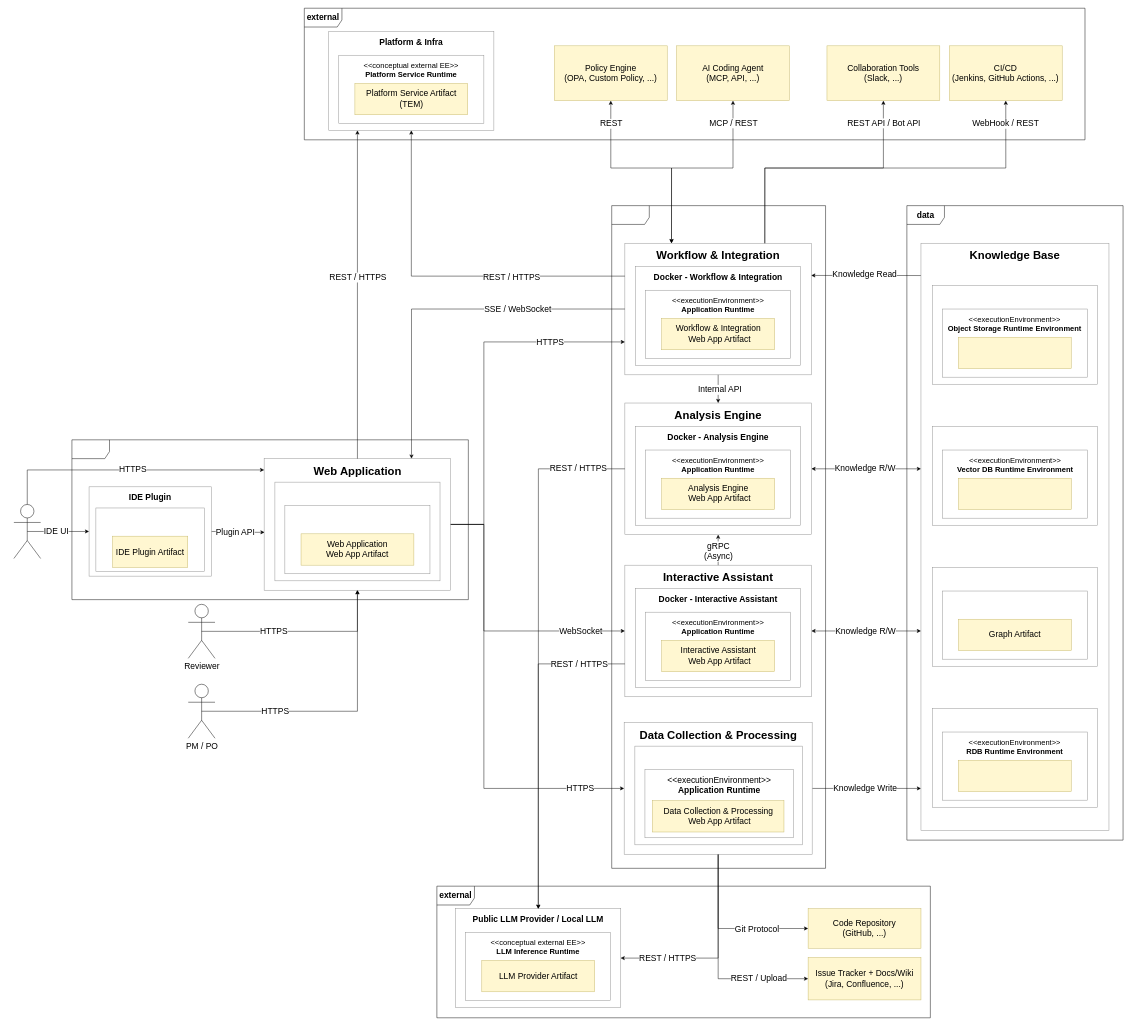
Some shapes in this 1131 by 1026 pixel diagram are drawn without their labels. Each missing label, with the box of its shape:
<<executionEnvironment>> Graph DB Runtime Environment: (942, 591, 1087, 659)
<<executionEnvironment>> IDE Host Runtime: (95, 508, 204, 571)
<<executionEnvironment>> Web Server Runtime: (284, 505, 430, 574)
Developer: (13, 504, 41, 559)
Docker - Data Collection & Processing: (634, 746, 803, 845)
Docker - KB Graph Storage: (932, 567, 1097, 666)
Docker - KB Object Storage: (932, 285, 1097, 384)
Docker - KB Vector Storage: (932, 426, 1097, 525)
Docker - RDB Storage: (932, 708, 1097, 807)
Docker - Web App: (274, 482, 440, 581)
Metadata Artifact: (958, 760, 1071, 792)
Object Artifact: (958, 337, 1071, 369)
private: (611, 205, 826, 868)
public: (71, 439, 468, 600)
Vector Artifact: (958, 478, 1071, 510)
